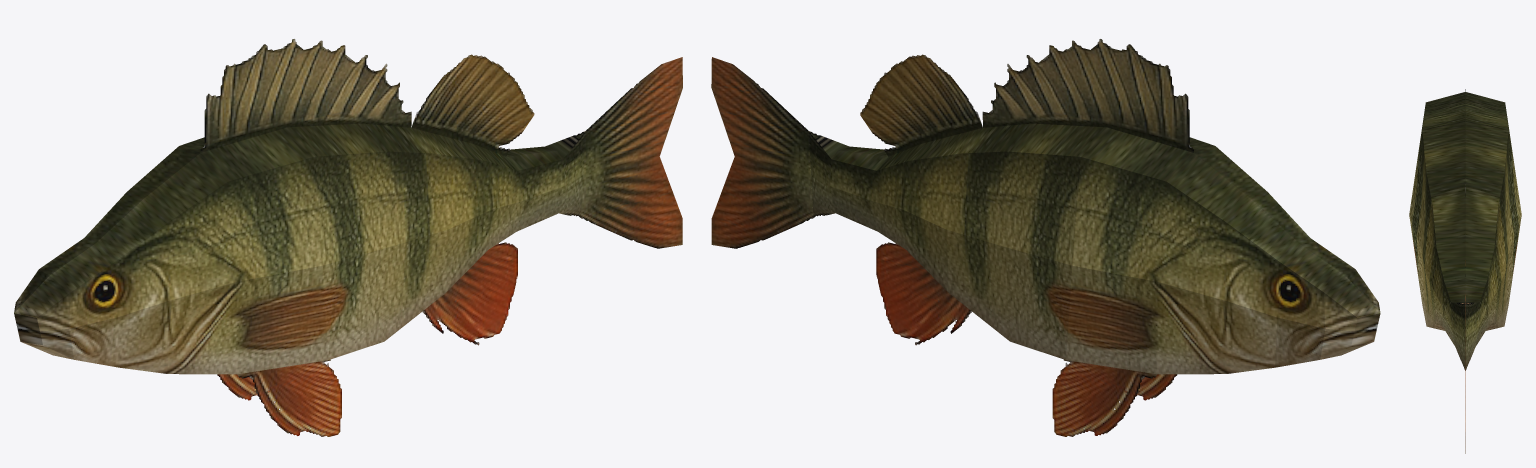
Rendered from Perch.fbx.
3 views of the same model, side by side, from view 1: azimuth 30°, elevation 25°; view 2: azimuth 150°, elevation 25°; view 3: azimuth 270°, elevation 25° (orthographic). The views are drawn at different scales.
Visible parts, largest first — view 1: Perch; view 2: Perch; view 3: Perch.
Part boxes in pixels (bbox=[...]): Perch: bbox=[14, 39, 682, 436]; Perch: bbox=[711, 39, 1380, 436]; Perch: bbox=[1409, 89, 1521, 453].
Bounding box in the file's own units: 57.22 × 32.28 × 10.24.
